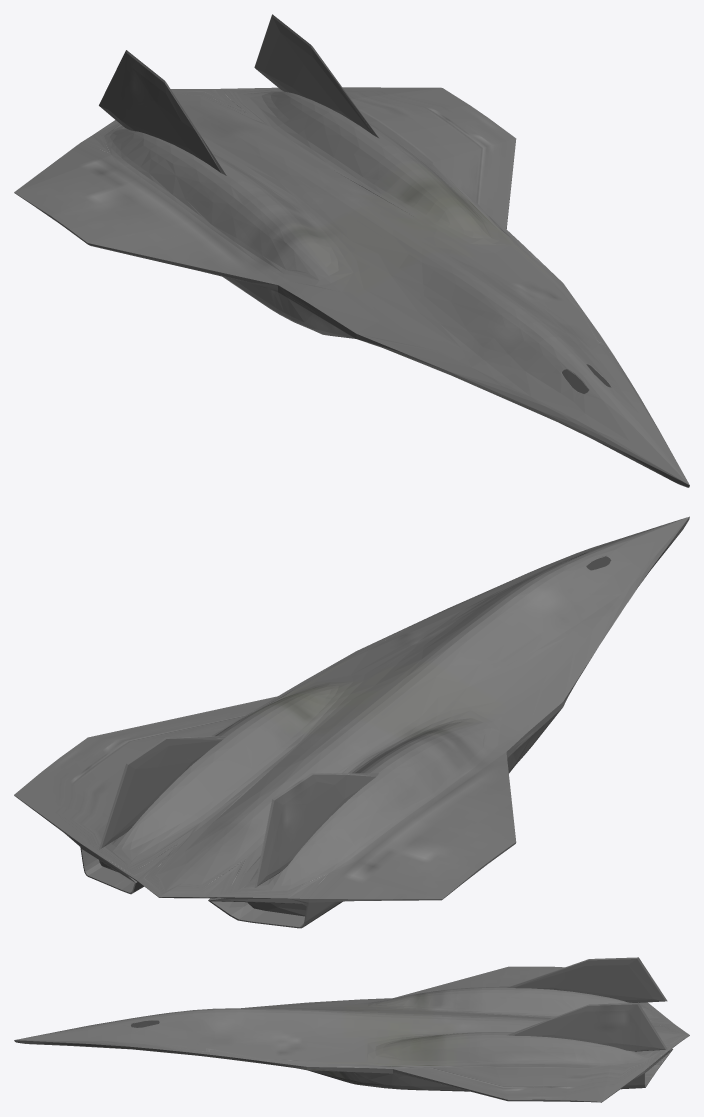
3 views of the same model, one above another, from view 1: azimuth 30°, elevation 25°; view 2: azimuth 150°, elevation 25°; view 3: azimuth 270°, elevation 25° (orthographic). The views are drawn at different scales.
Visible parts, largest first — view 1: Darkstar_Material_0; view 2: Darkstar_Material_0; view 3: Darkstar_Material_0.
Boxes of the visible parts, x1,y1,x2,y2 form: Darkstar_Material_0: [14, 14, 689, 487]; Darkstar_Material_0: [14, 516, 689, 928]; Darkstar_Material_0: [14, 957, 689, 1102].
Size of the model in its own units: 3.99 by 1.11 by 8.57.
2 materials, 1 textured.
